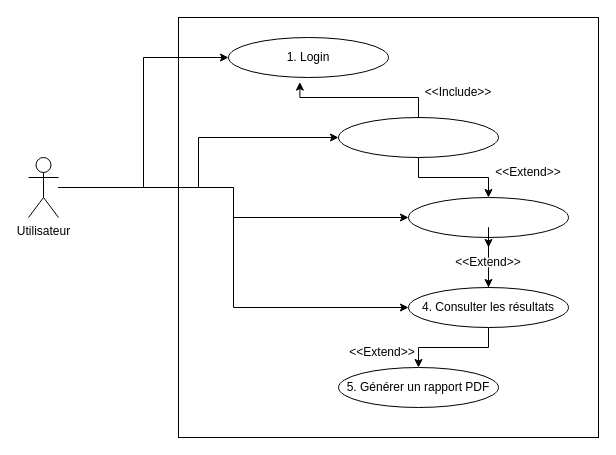
Image size: 616x455. Some labels were removed from this diagram. The shapes that lost their labels are listed below. From the top down, each one's centre as x and y in pixels, then its label:
(418,137): 2. Envoyer journal du jour
(488,217): 3. Lancer analyse de la course
